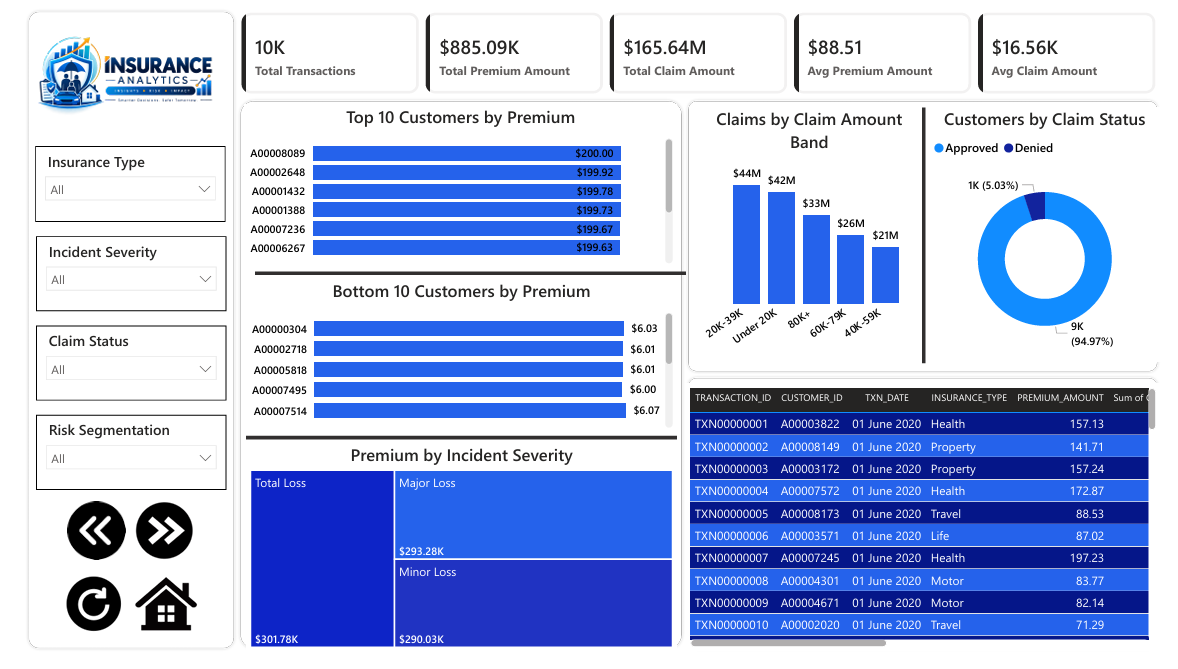

Layout of this report page (visuals, bound fields, positions):
{"tool":"powerbi","page":{"name":"Transaction & Claim Detail","canvas":[1280,720],"ordinal":3},"visuals":[{"type":"shape","box":[9.8,0,237.2,720.2],"z":0},{"type":"cardVisual","fields":{"Data":["Measures .Total Transactions","Measures .Total Premium Amount","Measures .Total Claim Amount","Measures .Avg Premium Amount","Measures .Avg Claim Amount"]},"box":[247.4,0,1032.8,99.7],"z":1000},{"type":"slicer","fields":{"Values":["Insurance.INSURANCE_TYPE"]},"box":[20.5,154.4,213.5,84.5],"z":2000},{"type":"slicer","fields":{"Values":["Insurance.INCIDENT_SEVERITY"]},"box":[21.7,254.6,213.5,84.5],"z":3000},{"type":"slicer","fields":{"Values":["Insurance.CLAIM_STATUS"]},"box":[21.7,354.7,213.5,84.5],"z":4000},{"type":"slicer","fields":{"Values":["Insurance.RISK_SEGMENTATION"]},"box":[21.7,454.8,213.5,84.5],"z":5000},{"type":"shape","box":[247.4,99.7,501,620.4],"z":6000},{"type":"barChart","title":"Top 10 Customers by Premium","fields":{"Category":["Insurance.CUSTOMER_ID"],"Y":["Measures .Total Premium Amount"]},"box":[255.3,108.3,483.2,181.8],"z":7000},{"type":"barChart","title":"Bottom 10 Customers by Premium","fields":{"Category":["Insurance.CUSTOMER_ID"],"Y":["Measures .Total Premium Amount"]},"box":[256.6,302.6,482,171.9],"z":8000},{"type":"treemap","title":"Premium by Incident Severity","fields":{"Group":["Insurance.INCIDENT_SEVERITY"],"Values":["Measures .Total Premium Amount"]},"box":[256.6,486.9,482,232.9],"z":9000},{"type":"shape","box":[748.5,99.7,531.8,310.2],"z":10000},{"type":"shape","box":[748.5,409.9,531.8,310.2],"z":11000},{"type":"columnChart","title":"Claims by Claim Amount Band","fields":{"Category":["Insurance.Claim Distribution"],"Y":["Measures .Total Claim Amount"]},"box":[764.7,110.8,244.1,285.2],"z":12000},{"type":"donutChart","title":"Customers by Claim Status","fields":{"Y":["Measures .Total Customers"],"Category":["Insurance.CLAIM_STATUS"]},"box":[1021.2,110.8,259,285.2],"z":13000},{"type":"tableEx","fields":{"Values":["Insurance.TRANSACTION_ID","Insurance.CUSTOMER_ID","Insurance.TXN_DATE","Insurance.INSURANCE_TYPE","Insurance.PREMIUM_AMOUNT","Sum(Insurance.CLAIM_AMOUNT)","Insurance.CLAIM_STATUS","Insurance.INCIDENT_SEVERITY","Insurance.RISK_SEGMENTATION","Insurance.INCIDENT_CITY","Insurance.AGENT_ID","Insurance.VENDOR_ID"]},"box":[748.5,419.8,531.8,300.4],"z":14000},{"type":"image","box":[8.8,5,226.2,141.2],"z":15000},{"type":"shape","box":[256.6,474.5,482,12.4],"z":16000},{"type":"shape","box":[267.1,290,481.4,12.9],"z":17000},{"type":"shape","box":[1008.8,110.8,12.4,286.4],"z":18000},{"type":"actionButton","box":[57.5,549,64.8,70.9],"z":19000},{"type":"actionButton","box":[128.4,549,74.6,70.9],"z":20000},{"type":"actionButton","box":[46.5,620,80.7,91.7],"z":21000},{"type":"actionButton","box":[122.3,620,90.5,91.7],"z":22000}]}

Visuals, with their boxes in screenshot pixels (x1, y1, x2, y2), scaled from the page's 1280x720 canvas onto the 1178x669 screenshot:
shape: 9,0,227,668
cardVisual - Measures .Total Transactions x Measures .Total Premium Amount: 228,0,1177,93
slicer - Insurance.INSURANCE_TYPE: 19,143,215,222
slicer - Insurance.INCIDENT_SEVERITY: 20,237,216,315
slicer - Insurance.CLAIM_STATUS: 20,330,216,408
slicer - Insurance.RISK_SEGMENTATION: 20,423,216,501
shape: 228,93,689,668
"Top 10 Customers by Premium" barChart: 235,101,680,270
"Bottom 10 Customers by Premium" barChart: 236,281,680,441
"Premium by Incident Severity" treemap: 236,452,680,668
shape: 689,93,1177,381
shape: 689,381,1177,668
"Claims by Claim Amount Band" columnChart: 704,103,928,368
"Customers by Claim Status" donutChart: 940,103,1177,368
tableEx - Insurance.TRANSACTION_ID x Insurance.CUSTOMER_ID: 689,390,1177,668
image: 8,5,216,136
shape: 236,441,680,452
shape: 246,269,689,281
shape: 928,103,940,369
actionButton: 53,510,113,576
actionButton: 118,510,187,576
actionButton: 43,576,117,661
actionButton: 113,576,196,661
